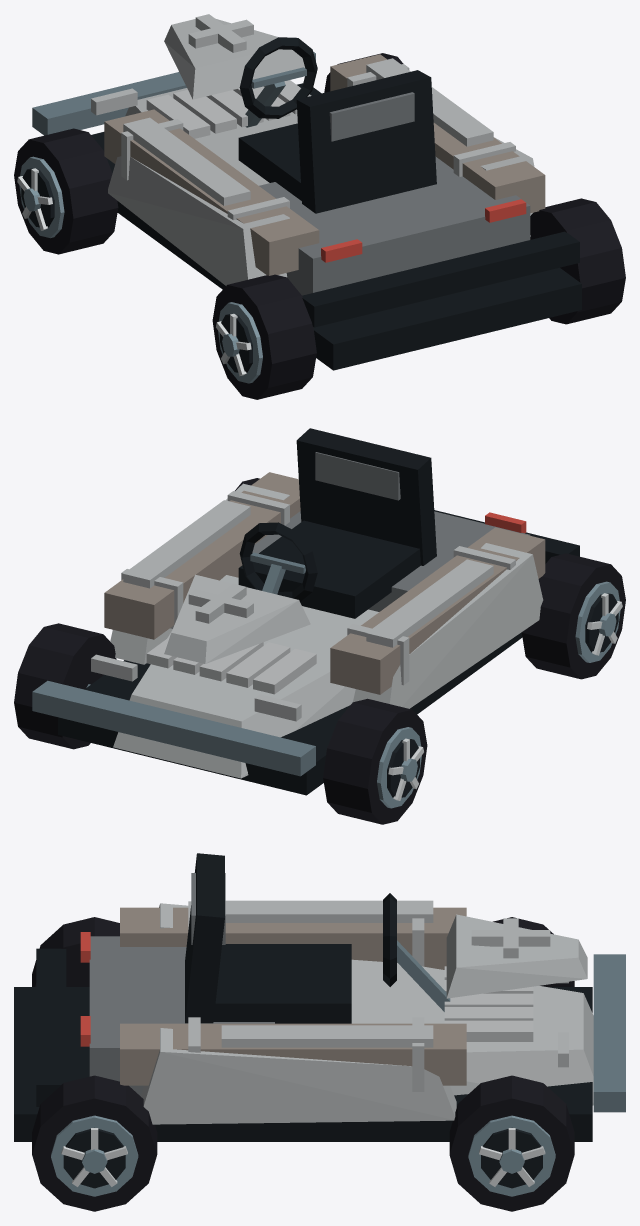
File: kart.glb
3 renders of one model, top to bottom at view 1: azimuth 30°, elevation 25°; view 2: azimuth 150°, elevation 25°; view 3: azimuth 270°, elevation 25°, orthographic. The views are drawn at different scales.
Visible parts, largest first — view 1: chassis, wheel-rear-left, wheel-front-left, wheel-rear-right; view 2: chassis, wheel-front-left, wheel-rear-left, wheel-front-right; view 3: chassis, wheel-front-right, wheel-rear-right, wheel-rear-left.
Boxes of the visible parts, box(x1,y1,x2,y2) form: chassis: box(32, 14, 581, 370); wheel-rear-left: box(212, 274, 316, 399); wheel-front-left: box(14, 128, 118, 254); wheel-rear-right: box(530, 198, 625, 324); chassis: box(32, 428, 579, 795); wheel-front-left: box(323, 698, 427, 824); wheel-rear-left: box(521, 553, 625, 679); wheel-front-right: box(14, 623, 116, 749); chassis: box(14, 853, 625, 1141); wheel-front-right: box(449, 1075, 574, 1211); wheel-rear-right: box(32, 1075, 157, 1211); wheel-rear-left: box(32, 917, 119, 986).
Bounding box in the file's own units: 2.3 × 1.3 × 3.03.
